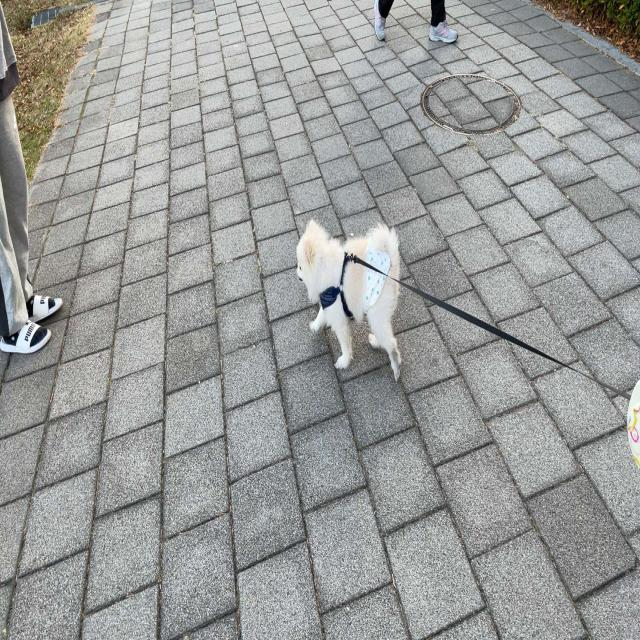Dog: (295, 217, 401, 383)
